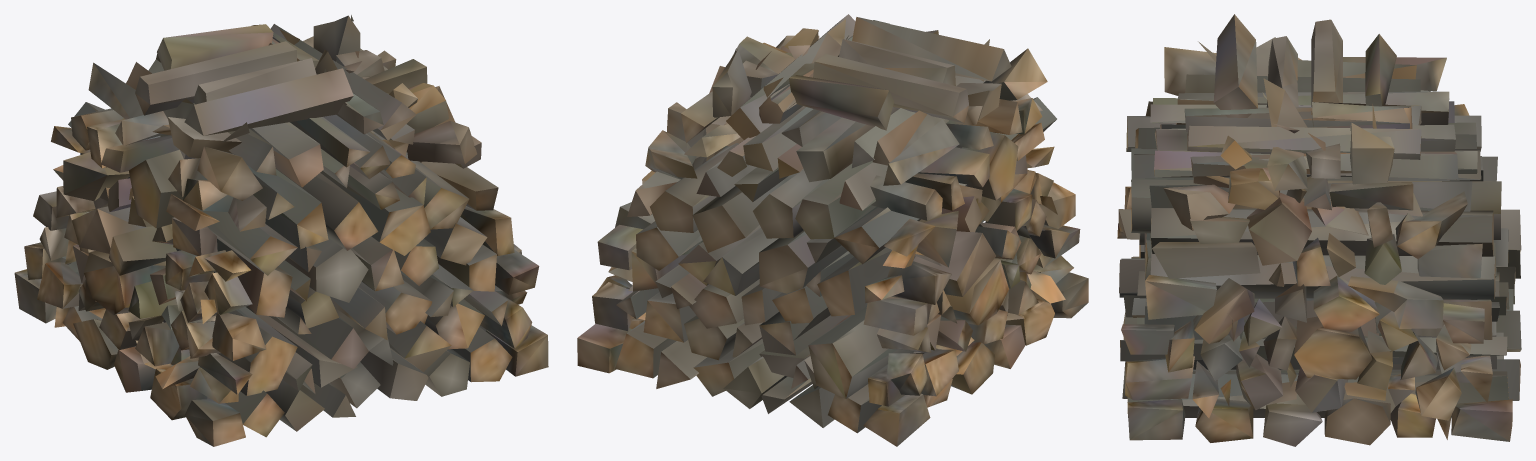
The model's file is resource_firewood_2.glb.
3 renders of one model, left to right at view 1: azimuth 30°, elevation 25°; view 2: azimuth 150°, elevation 25°; view 3: azimuth 270°, elevation 25°, orthographic. The views are drawn at different scales.
Parts seen in each view (by area): view 1: MeshyGear_resource_firewood; view 2: MeshyGear_resource_firewood; view 3: MeshyGear_resource_firewood.
Boxes of the visible parts, bbox=[...] form: MeshyGear_resource_firewood: bbox=[14, 15, 548, 446]; MeshyGear_resource_firewood: bbox=[577, 14, 1088, 446]; MeshyGear_resource_firewood: bbox=[1117, 14, 1521, 446].
Size of what is drawn, in the model's own units: 1.61 by 1.3 by 1.6.
Materials: 1 (1 with a texture image).
